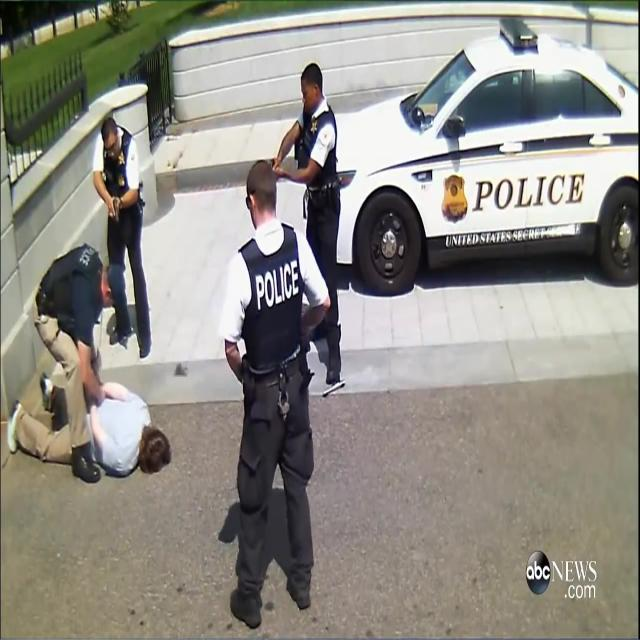Weapon: (101, 182, 146, 236), (264, 156, 286, 190)
